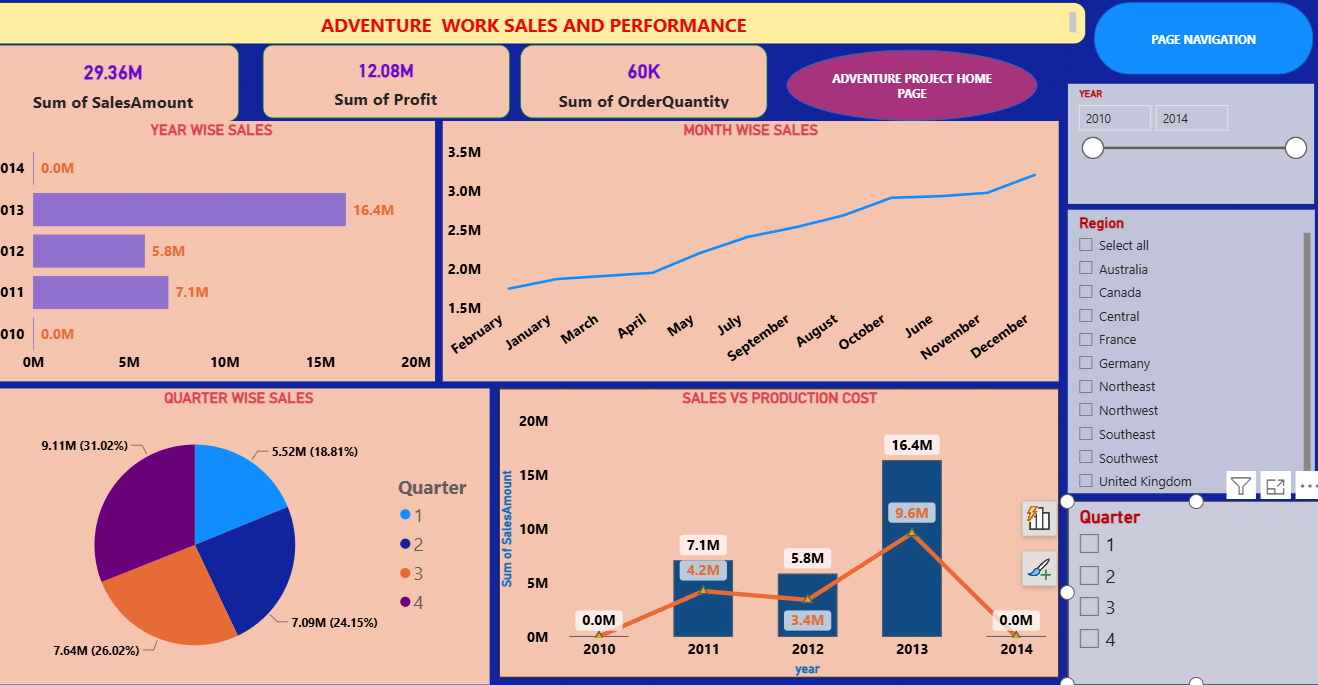

This screenshot's page, from the dashboard's own definition file:
{"tool":"powerbi","page":{"name":"Dashboard","canvas":[1540,787],"ordinal":6},"visuals":[{"type":"card","fields":{"Values":["Sum(Sales.SalesAmount)"]},"box":[10,55,287,88],"z":0},{"type":"card","fields":{"Values":["Sum(Sales.Profit)"]},"box":[324,55,282,84],"z":1000},{"type":"card","fields":{"Values":["Sum(Sales.OrderQuantity)"]},"box":[618,55,282,84],"z":2000},{"type":"clusteredBarChart","title":"YEAR WISE SALES","fields":{"Category":["Sales.year"],"Y":["Sum(Sales.SalesAmount)"]},"box":[10,142.5,511.2,297.5],"z":3000},{"type":"lineChart","title":"MONTH WISE SALES","fields":{"Category":["Sales.Month Name"],"Y":["Sum(Sales.SalesAmount)"]},"box":[530,142.5,703.8,297.5],"z":4000},{"type":"pieChart","title":"QUARTER WISE SALES","fields":{"Category":["Sales.Quarter"],"Y":["Sum(Sales.SalesAmount)"]},"box":[10,448.8,573.8,338.8],"z":5000},{"type":"lineClusteredColumnComboChart","title":"SALES VS PRODUCTION COST","fields":{"Category":["Sales.year"],"Y":["Sum(Sales.SalesAmount)"],"Y2":["Sum(Sales.Production Cost)"]},"box":[593.8,448.8,640,330],"z":6000},{"type":"shape","box":[923.1,61.5,286.8,81.3],"z":7000},{"type":"shape","box":[1274.7,6.9,250.6,82.8],"z":8000},{"type":"textbox","box":[9.9,6.6,1254.9,48.4],"z":9000},{"type":"slicer","fields":{"Values":["Sales.year"]},"box":[1243.7,100,281.6,137.9],"z":10000},{"type":"slicer","fields":{"Values":["Sales.Region"]},"box":[1243.7,243.7,282.8,324.1],"z":11000},{"type":"slicer","fields":{"Values":["Sales.Quarter"]},"box":[1243.7,577,296.6,210.3],"z":12000}]}

Visuals, with their boxes in screenshot pixels (x1, y1, x2, y2), scaled from the page's 1540x787 canvas onto the 1318x685 screenshot:
card - Sum(Sales.SalesAmount): bbox=(9, 48, 254, 124)
card - Sum(Sales.Profit): bbox=(277, 48, 519, 121)
card - Sum(Sales.OrderQuantity): bbox=(529, 48, 770, 121)
"YEAR WISE SALES" clusteredBarChart: bbox=(9, 124, 446, 383)
"MONTH WISE SALES" lineChart: bbox=(454, 124, 1056, 383)
"QUARTER WISE SALES" pieChart: bbox=(9, 391, 500, 684)
"SALES VS PRODUCTION COST" lineClusteredColumnComboChart: bbox=(508, 391, 1056, 678)
shape: bbox=(790, 54, 1035, 124)
shape: bbox=(1091, 6, 1305, 78)
textbox: bbox=(8, 6, 1082, 48)
slicer - Sales.year: bbox=(1064, 87, 1305, 207)
slicer - Sales.Region: bbox=(1064, 212, 1306, 494)
slicer - Sales.Quarter: bbox=(1064, 502, 1317, 684)
